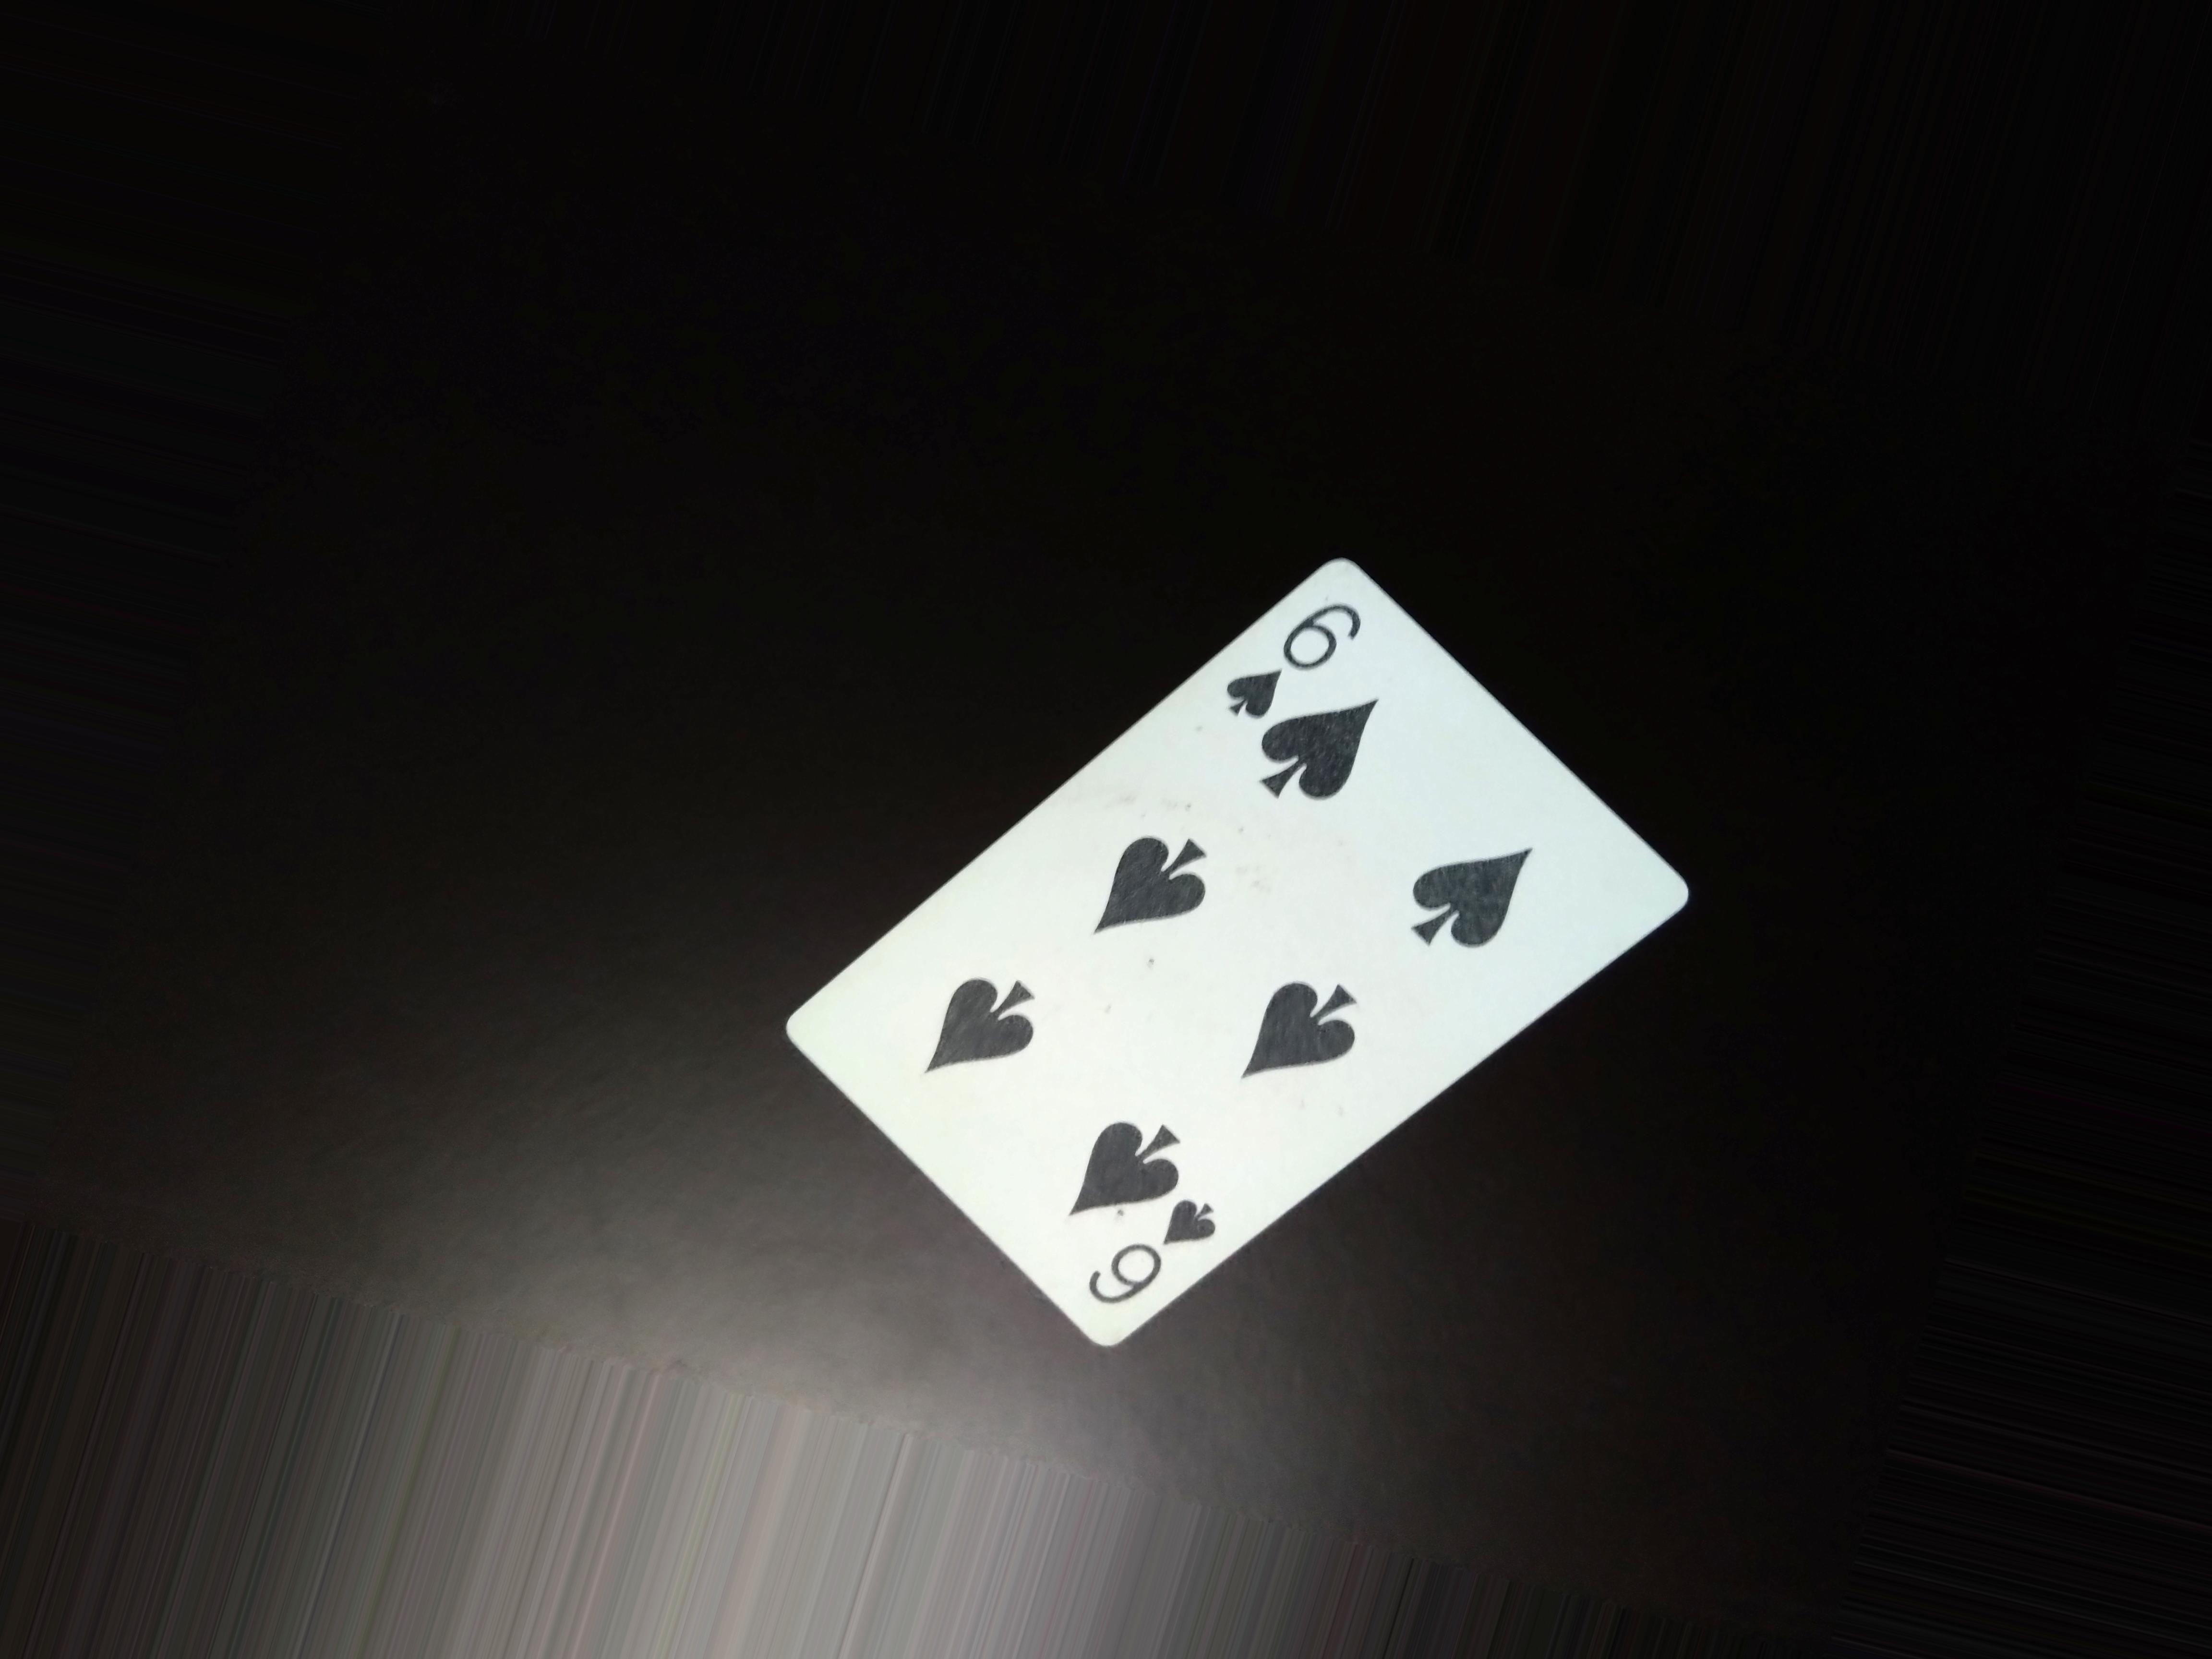6S: (1207, 594, 1386, 723)
